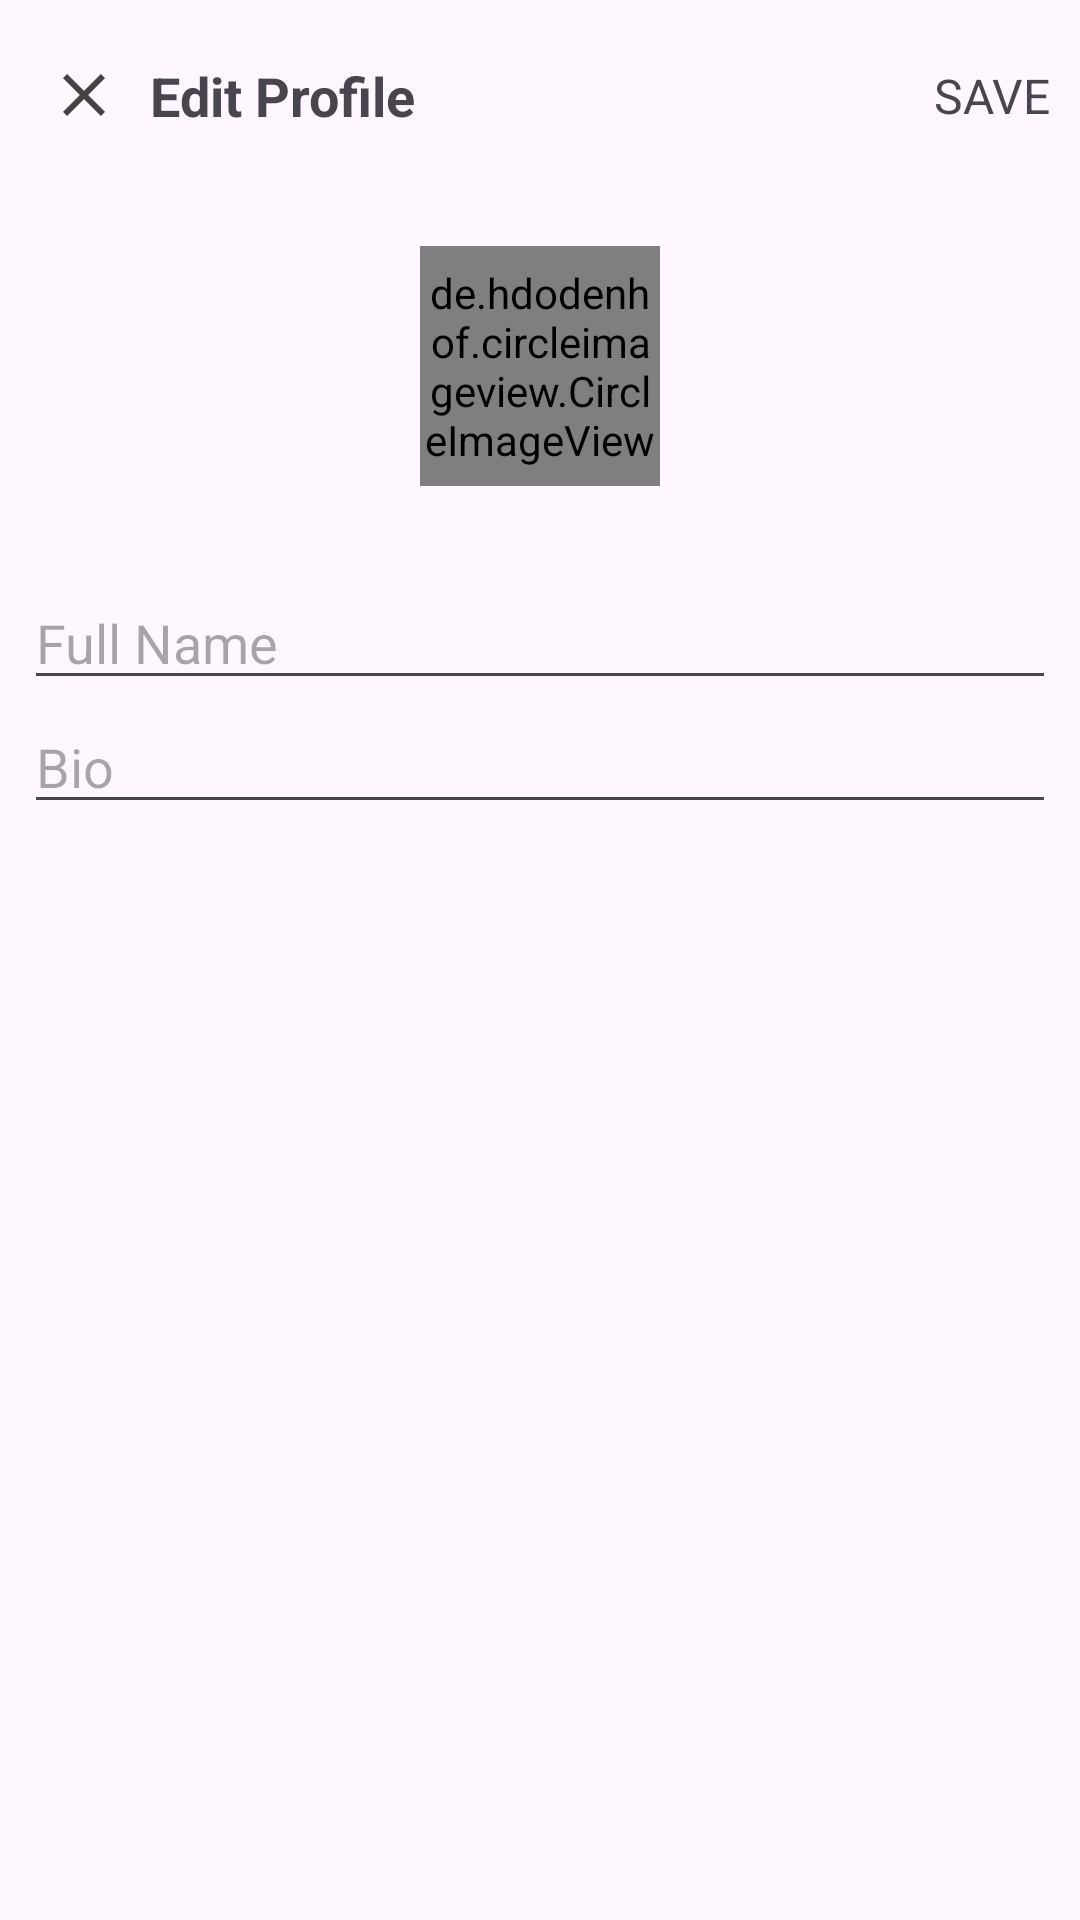

Locate icon controls on the screen. Image size 1080w x 1920h, boxes as (x1, y1, x2, y2).
close: (63, 74, 105, 116)
